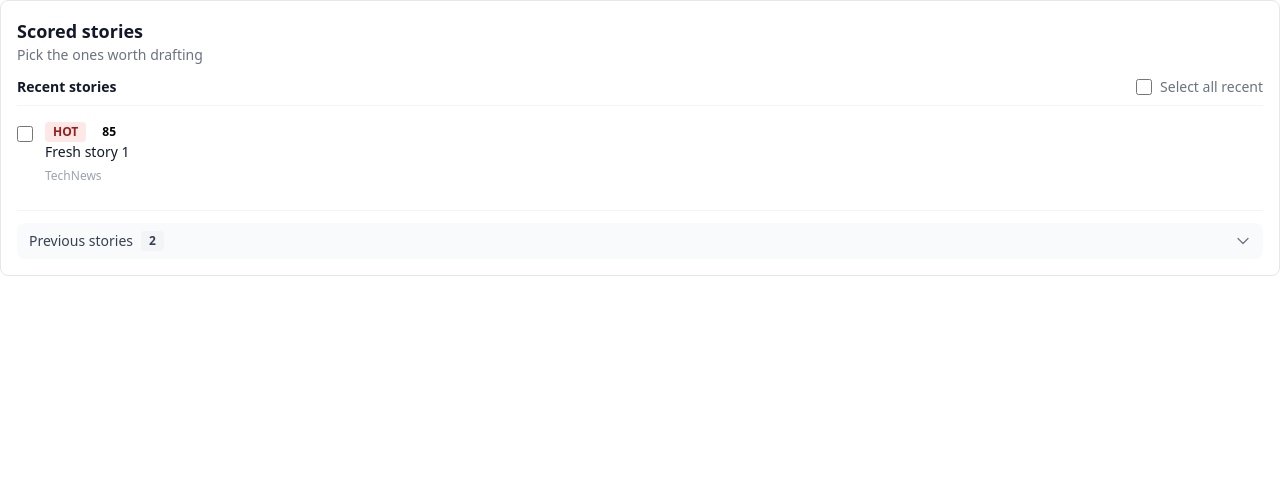
ScoredCandidates › toggles all previous candidates independently
Click the button "Previous stories 2" at point(81, 240), box [17,223,1263,259]
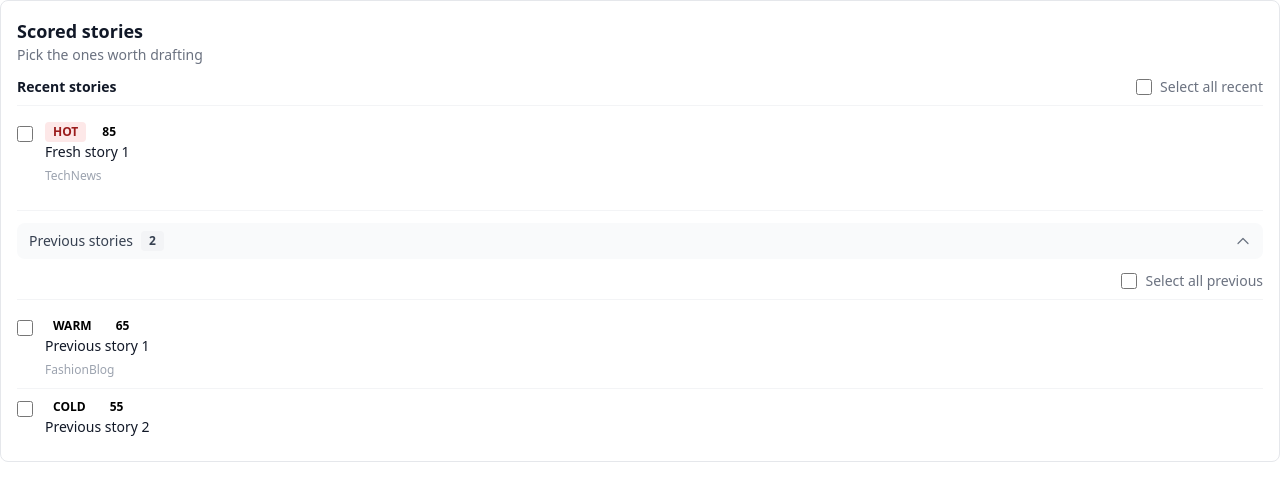
Click the checkbox labelled "Select all previous" at point(1130, 281), box [1122,273,1138,289]
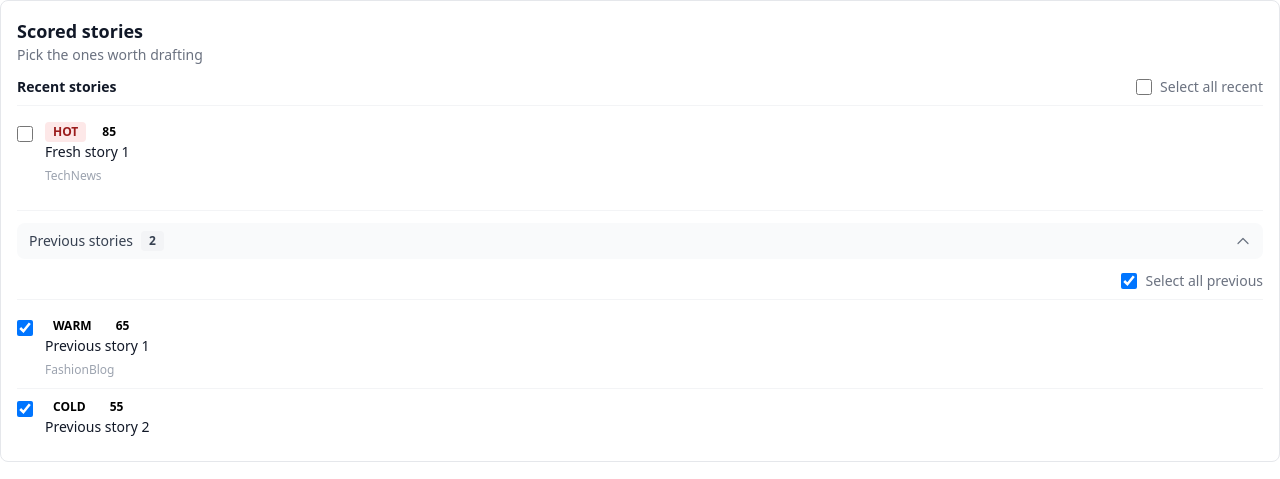
expect the checkbox named "Fresh story 1" is not checked: met, box [17,126,33,142]
expect the checkbox named "Previous story 1" is checked: met, box [17,320,33,336]
expect the checkbox named "Previous story 2" is checked: met, box [17,401,33,417]
Click the checkbox labelled "Select all previous" at point(1130, 281), box [1122,273,1138,289]
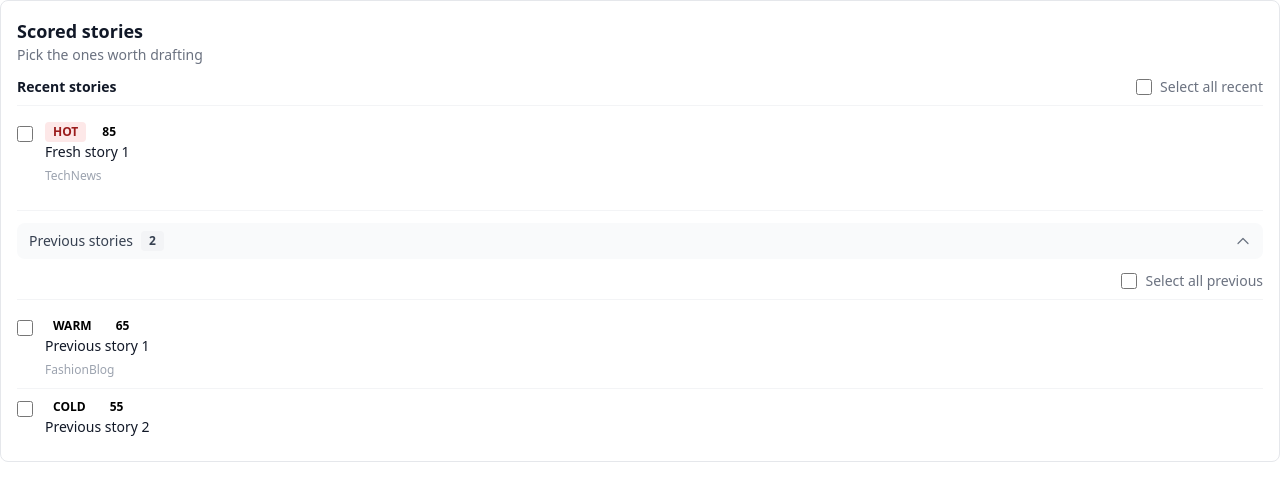
expect the checkbox named "Previous story 1" is not checked: met, box [17,320,33,336]
expect the checkbox named "Previous story 2" is not checked: met, box [17,401,33,417]
